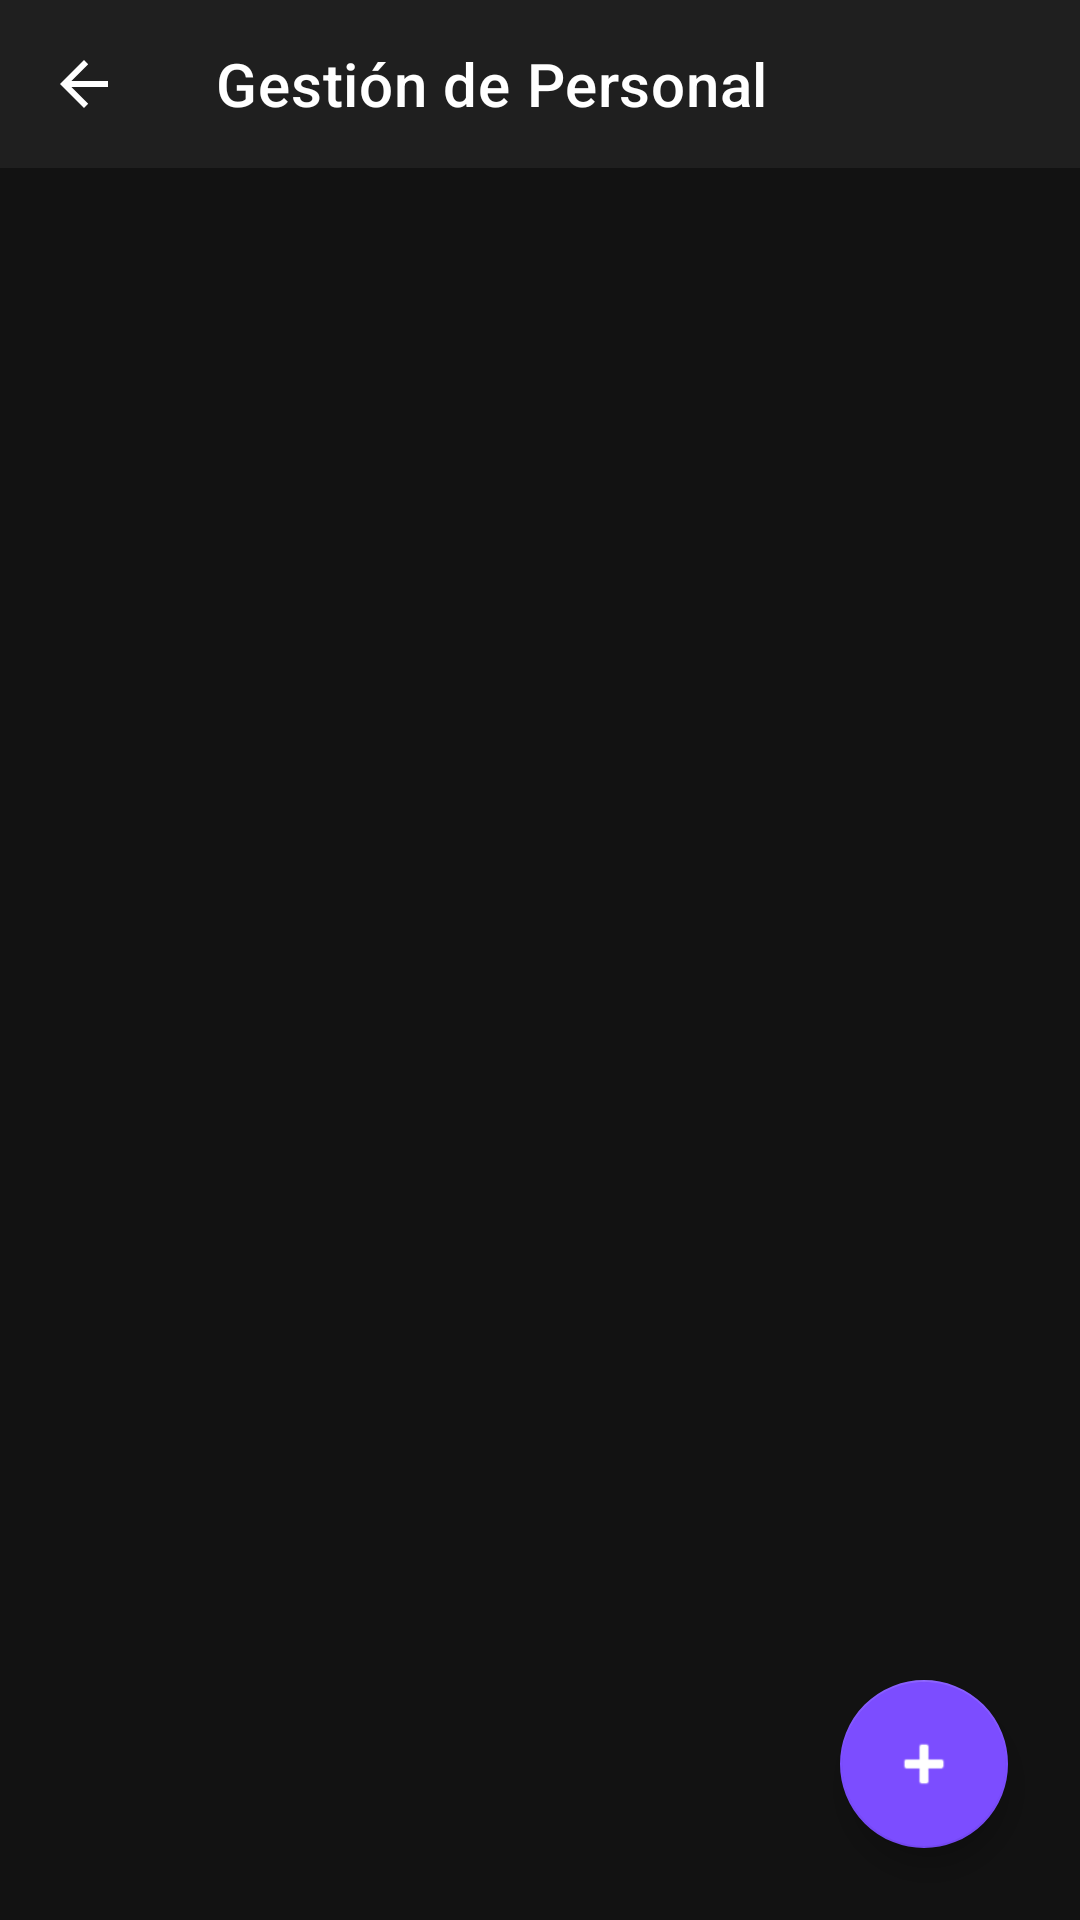

Screen size 1080*1920. Icon name, then its box in pixels as [x1,y1,x2,y2]:
Agregar Usuario: [840,1680,1008,1848]
